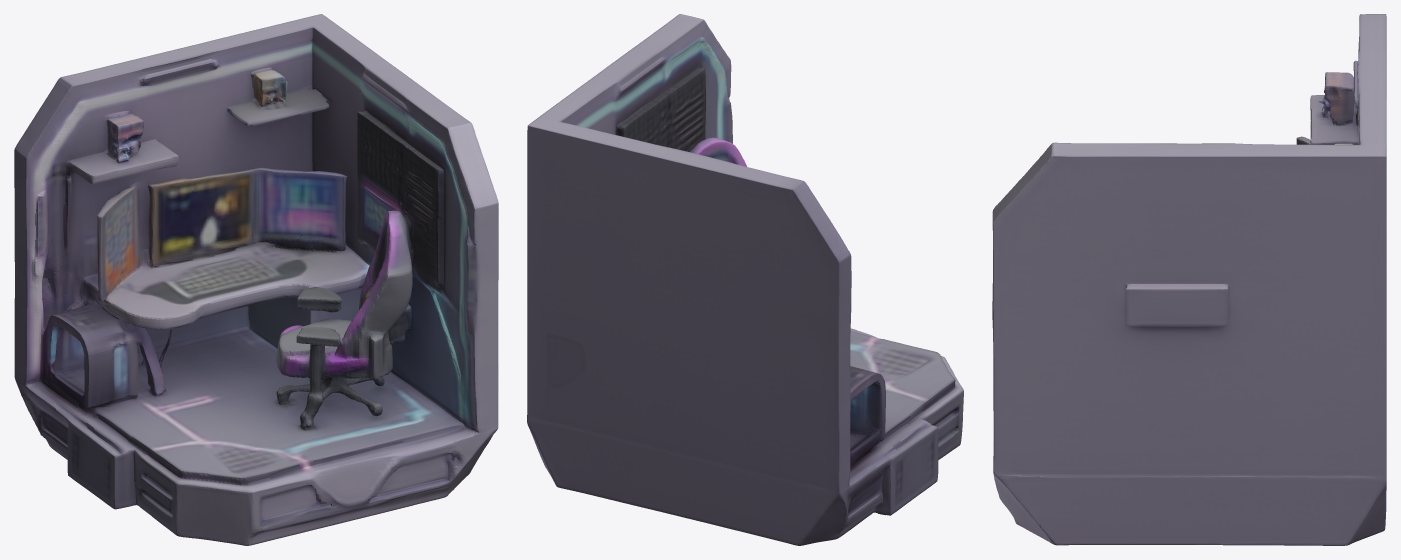
3 renders of one model, left to right at view 1: azimuth 30°, elevation 25°; view 2: azimuth 150°, elevation 25°; view 3: azimuth 270°, elevation 25°, orthographic. The views are drawn at different scales.
Visible parts, largest first — view 1: geometry_0; view 2: geometry_0; view 3: geometry_0.
Boxes of the visible parts, box(x1,y1,x2,y2) form: geometry_0: box(14, 14, 498, 545); geometry_0: box(527, 14, 963, 545); geometry_0: box(992, 14, 1386, 545).
Size of the model in its own units: 0.4633 by 0.4935 by 0.451.
